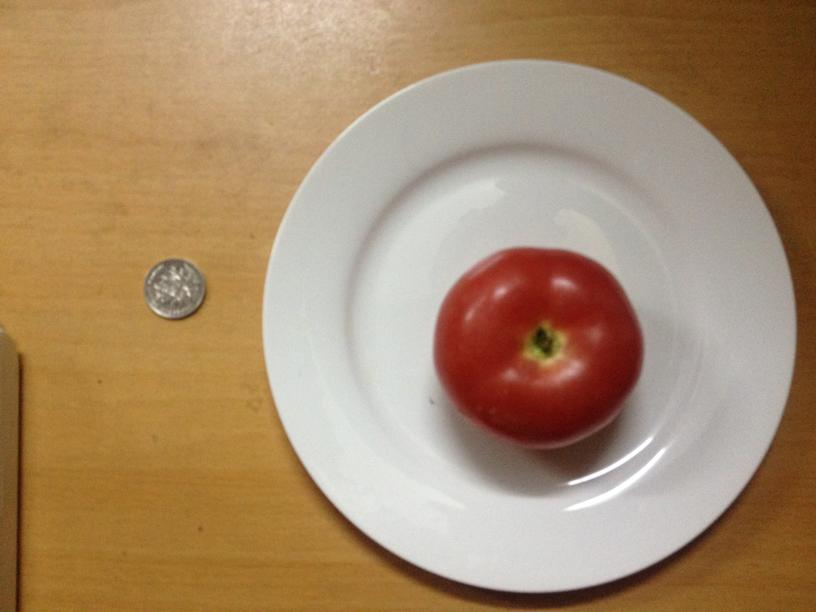coin: (137, 255, 209, 320)
tomato: (430, 244, 641, 449)
